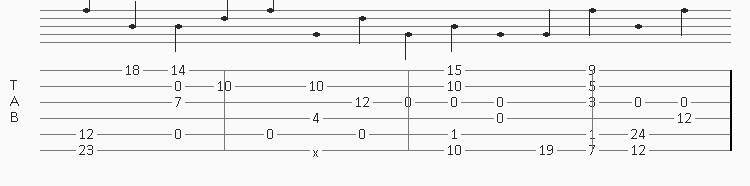0: (174, 127, 186, 141), (174, 79, 186, 93), (266, 127, 278, 141), (358, 127, 370, 141), (404, 95, 416, 109), (450, 95, 462, 109), (496, 95, 508, 109), (496, 111, 508, 125), (634, 95, 646, 109), (680, 95, 692, 109)
1: (450, 127, 462, 141), (588, 127, 600, 141)
10: (216, 79, 236, 93), (308, 79, 328, 93), (446, 143, 466, 157), (446, 79, 466, 93)
12: (78, 127, 98, 141), (354, 95, 374, 109), (630, 143, 650, 157), (676, 111, 696, 125)
14: (170, 63, 190, 77)
15: (446, 63, 466, 77)
18: (124, 63, 144, 77)
19: (538, 143, 558, 157)
23: (78, 143, 98, 157)
24: (630, 127, 650, 141)
3: (588, 95, 600, 109)
4: (312, 111, 324, 125)
5: (588, 79, 600, 93)
7: (174, 95, 186, 109), (588, 143, 600, 157)
9: (588, 63, 600, 77)
x: (312, 145, 323, 156)
